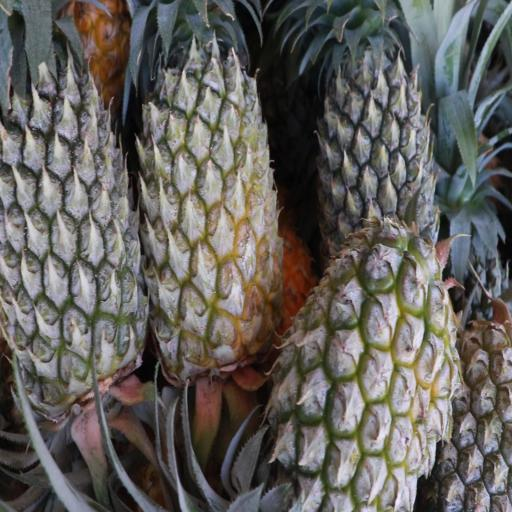------------------------------: (279, 234, 459, 508), (142, 6, 276, 360)
